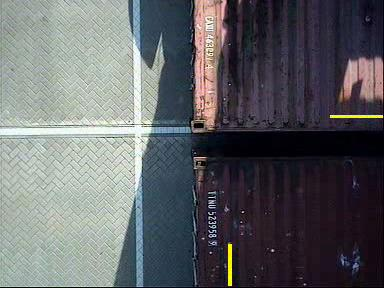groundmarker_2: (99, 221, 175, 263), (99, 74, 174, 116)
